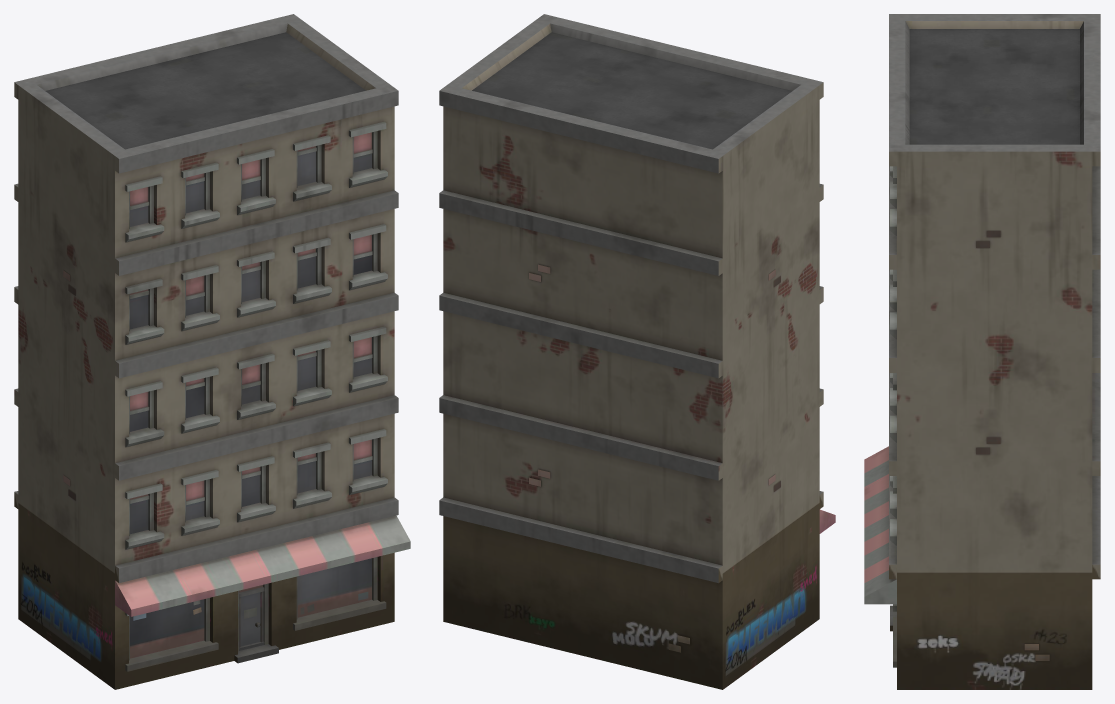
Rendered from building_E_6f.glb.
3 renders of one model, left to right at view 1: azimuth 30°, elevation 25°; view 2: azimuth 150°, elevation 25°; view 3: azimuth 270°, elevation 25°, orthographic.
Parts seen in each view (by area): view 1: ground; view 2: ground; view 3: ground.
Boxes of the visible parts, <box> form: ground: <box>14,14,410,689</box>; ground: <box>439,14,835,689</box>; ground: <box>864,14,1100,689</box>.
Size of the model in its own units: 2.01 by 3.65 by 1.45.
2 materials, 2 textured.
